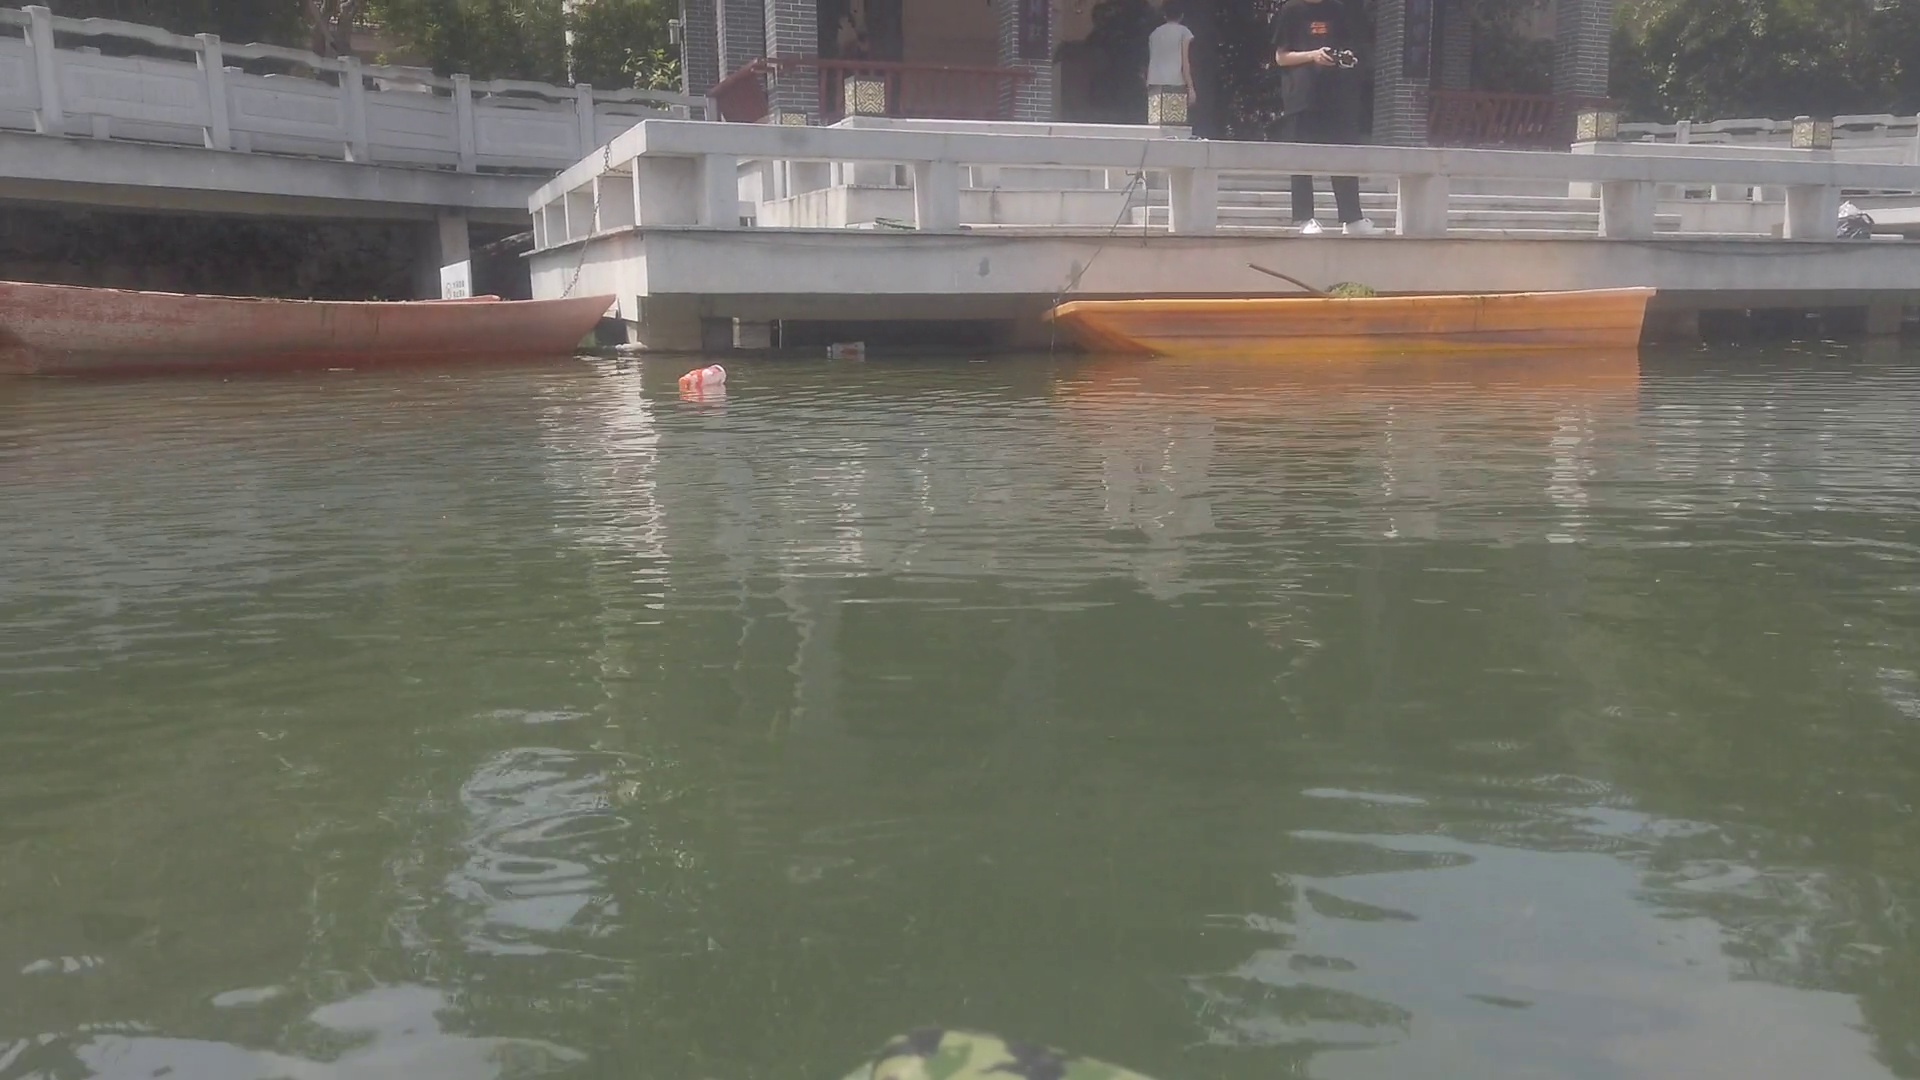bottle: (676, 363, 728, 386), (824, 339, 866, 355)
